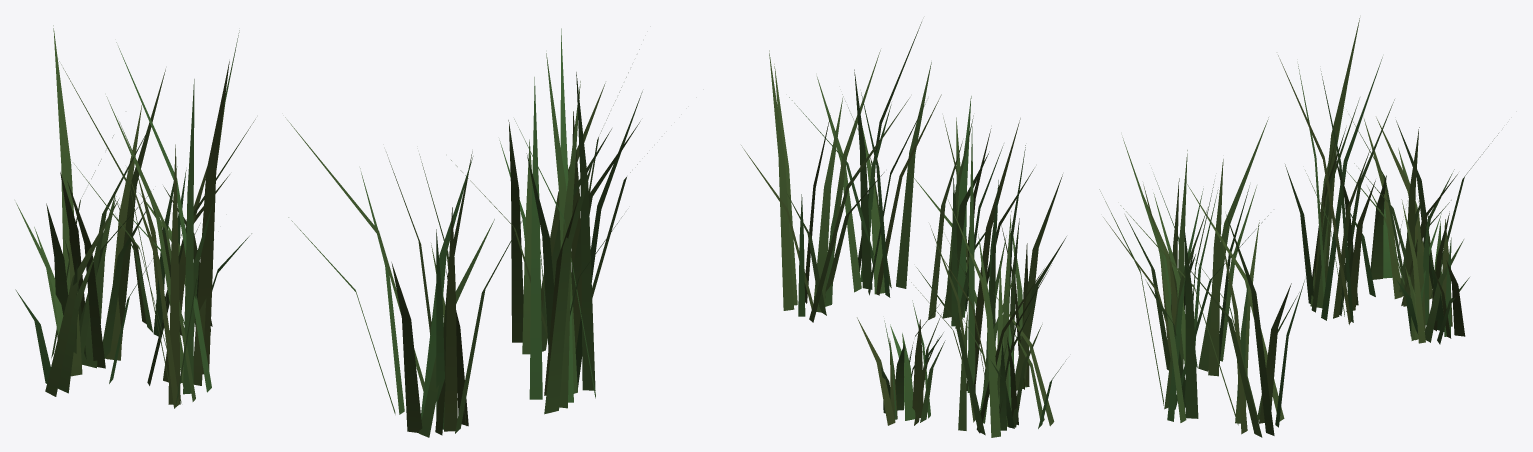
Rendered from ER_Touffe_Herbe.gltf.
3 views of the same model, side by side, from view 1: azimuth 30°, elevation 25°; view 2: azimuth 150°, elevation 25°; view 3: azimuth 270°, elevation 25° (orthographic). The views are drawn at different scales.
Visible parts, largest first — view 1: ER_Touffe_Herbe_HER.001; view 2: ER_Touffe_Herbe_HER.001; view 3: ER_Touffe_Herbe_HER.001.
Part boxes in pixels (<box>): ER_Touffe_Herbe_HER.001: <box>15,25,647,437</box>; ER_Touffe_Herbe_HER.001: <box>741,22,1066,437</box>; ER_Touffe_Herbe_HER.001: <box>1099,18,1498,437</box>.
Bounding box in the file's own units: 0.5664 × 0.3554 × 0.5005.
